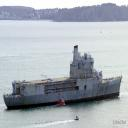Portanaves: (3, 44, 124, 112)
